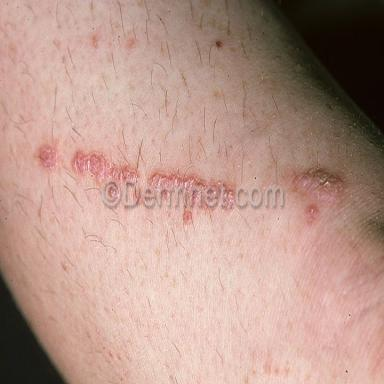lichen: (72, 150, 139, 183), (294, 168, 343, 201), (150, 173, 185, 191), (38, 145, 59, 170), (306, 204, 318, 223)
